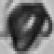correct: (5, 0, 53, 49)
